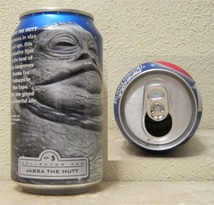Can: (11, 9, 113, 194), (113, 62, 204, 156)
